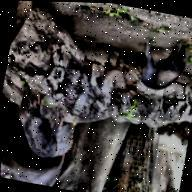boar: (136, 33, 189, 96)
